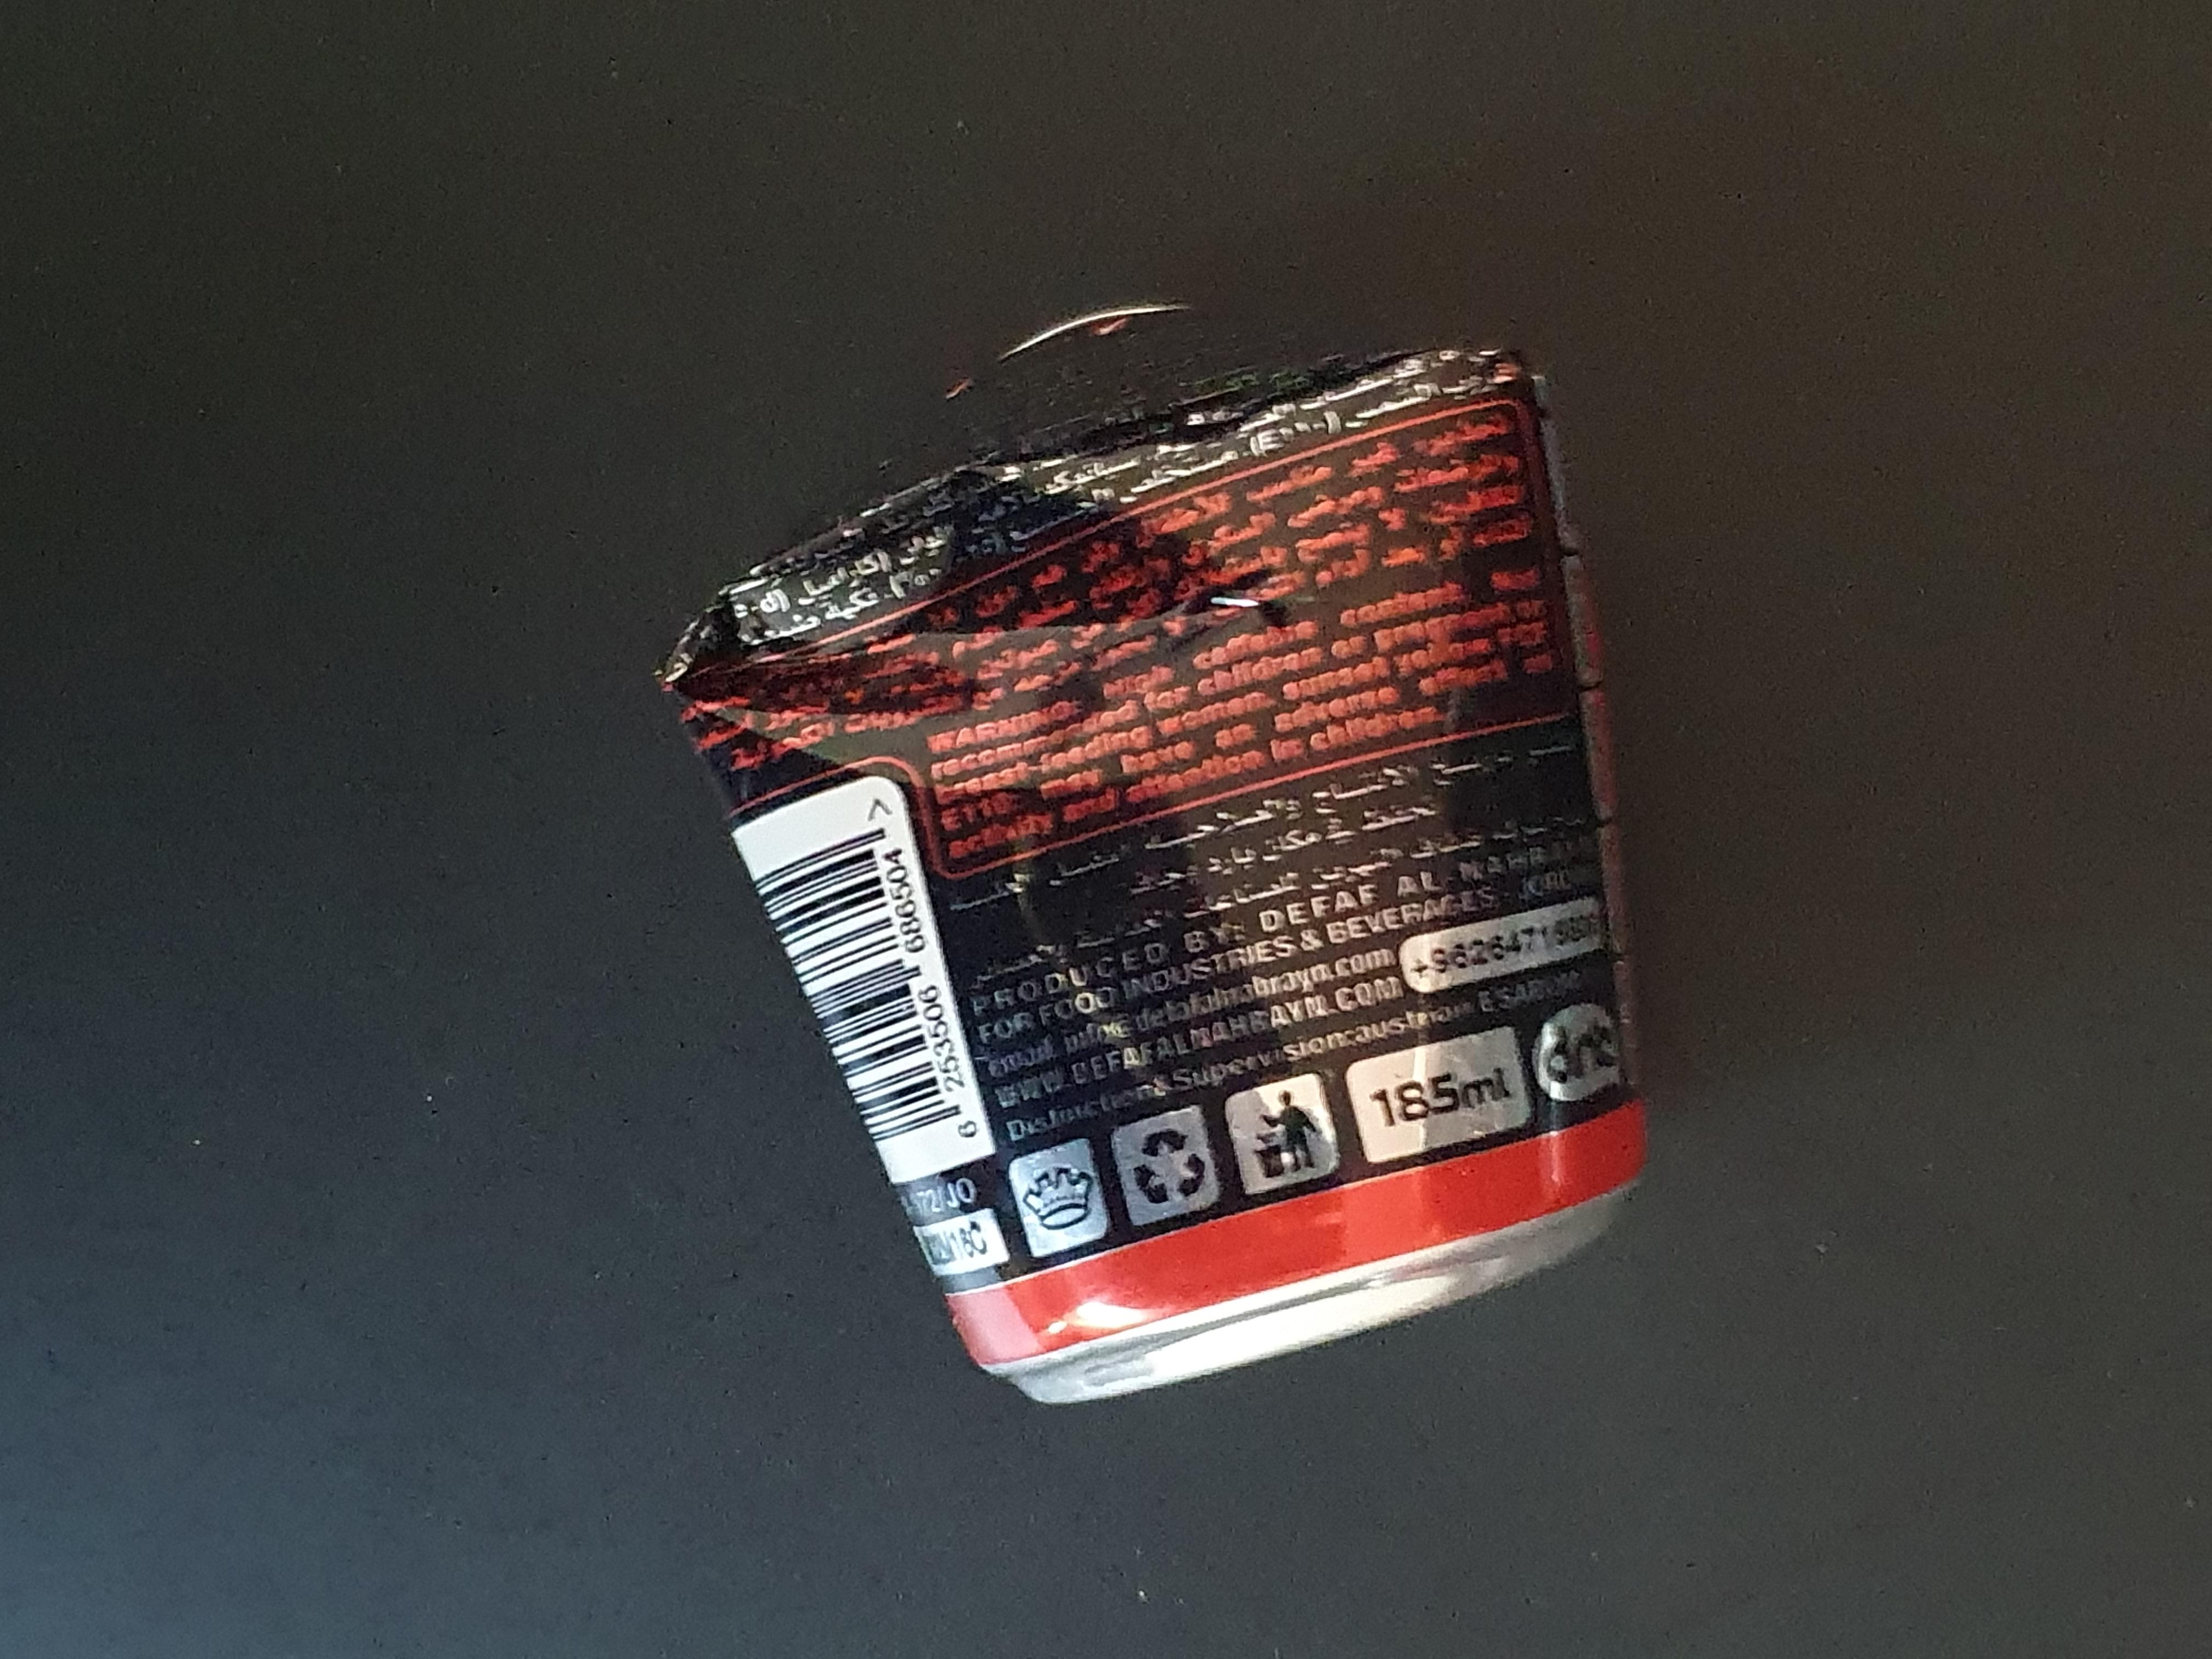metal: (624, 254, 1695, 1443)
